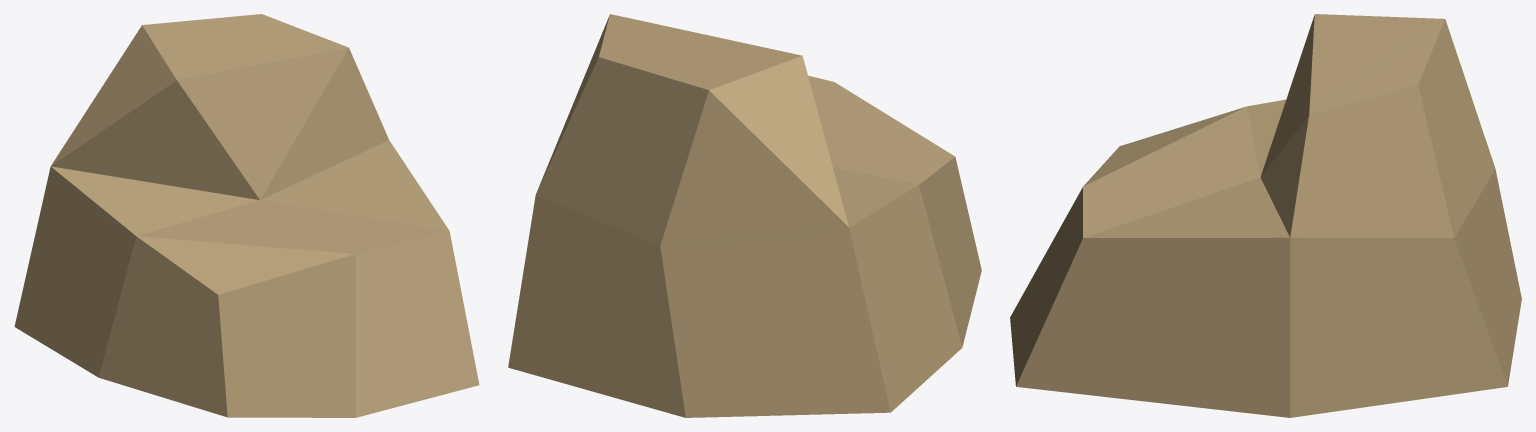
File: FlatRock-B07.fbx
3 views of the same model, side by side, from view 1: azimuth 30°, elevation 25°; view 2: azimuth 150°, elevation 25°; view 3: azimuth 270°, elevation 25° (orthographic). The views are drawn at different scales.
Parts seen in each view (by area): view 1: FlatRock-B07; view 2: FlatRock-B07; view 3: FlatRock-B07.
Boxes of the visible parts, x1,y1,x2,y2 form: FlatRock-B07: [14, 14, 479, 417]; FlatRock-B07: [508, 14, 981, 417]; FlatRock-B07: [1010, 14, 1521, 417].
Bounding box in the file's own units: 146 × 104 × 167.
